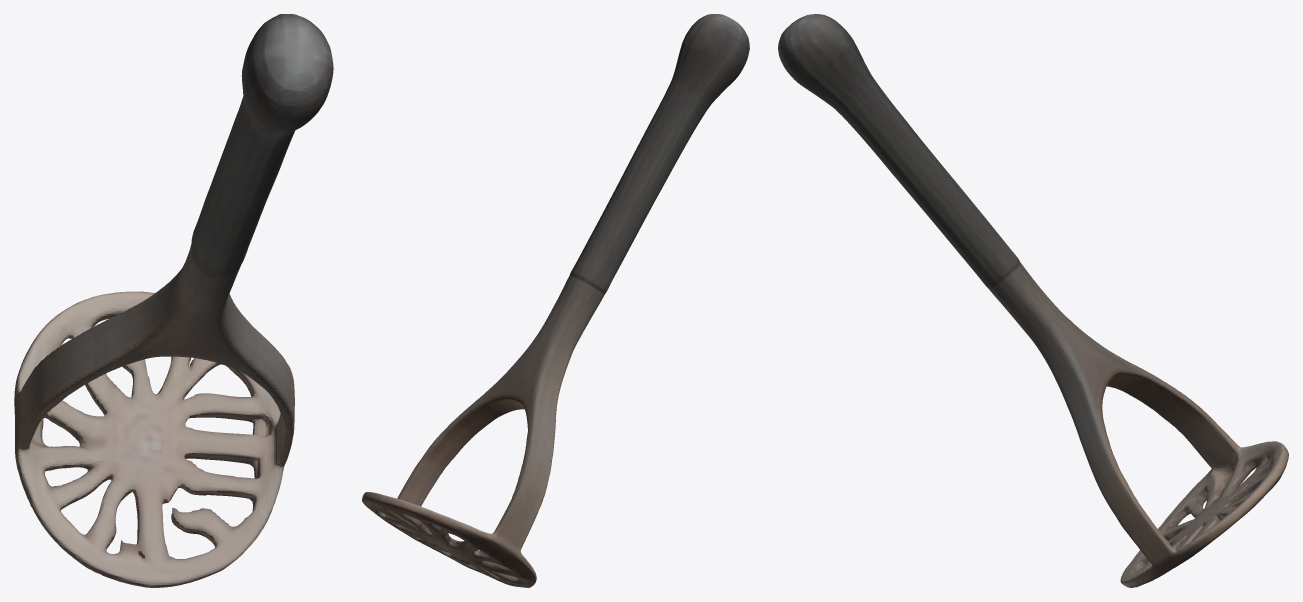
File: frame_0040_source_000040_object.glb
3 views of the same model, side by side, from view 1: azimuth 30°, elevation 25°; view 2: azimuth 150°, elevation 25°; view 3: azimuth 270°, elevation 25° (orthographic). The views are drawn at different scales.
Parts seen in each view (by area): view 1: world; view 2: world; view 3: world.
Part boxes in pixels (x1=…): world: x1=14, y1=14, x2=333, y2=587; world: x1=362, y1=14, x2=749, y2=587; world: x1=778, y1=14, x2=1288, y2=587.
Bounding box in the file's own units: 0.0927 × 0.2207 × 0.196.
